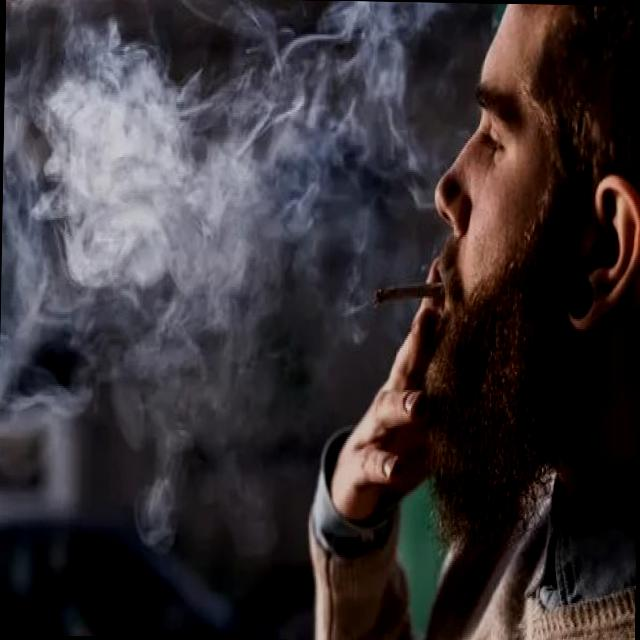cigarette: (368, 273, 453, 308)
